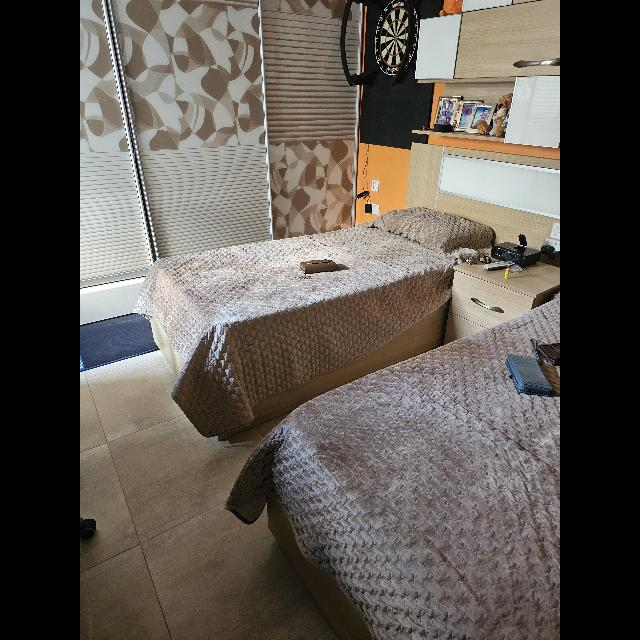Sunglasses: (463, 255, 489, 265)
Wallet: (506, 354, 554, 396), (536, 342, 560, 366), (300, 260, 338, 274)
